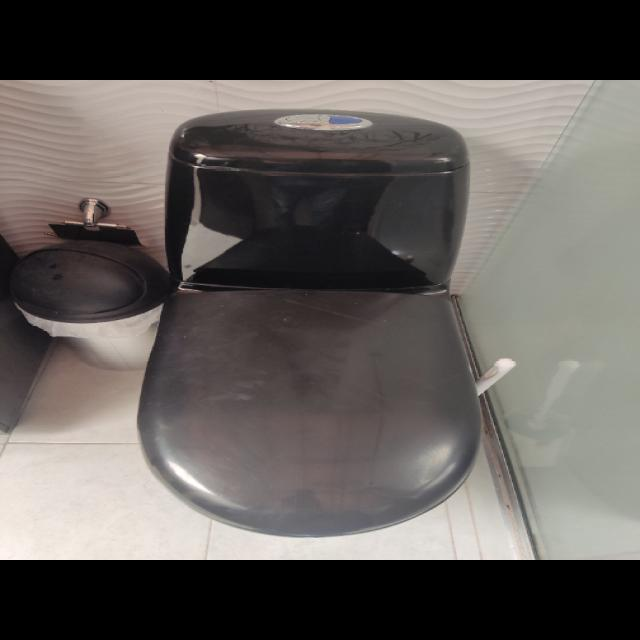toilet: (136, 107, 503, 537)
